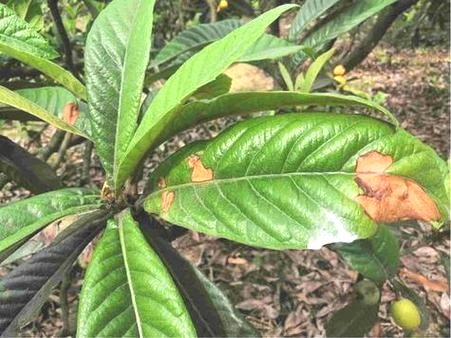Anthracnose: (350, 145, 426, 229), (145, 171, 182, 216), (169, 145, 206, 175), (54, 101, 81, 136)
